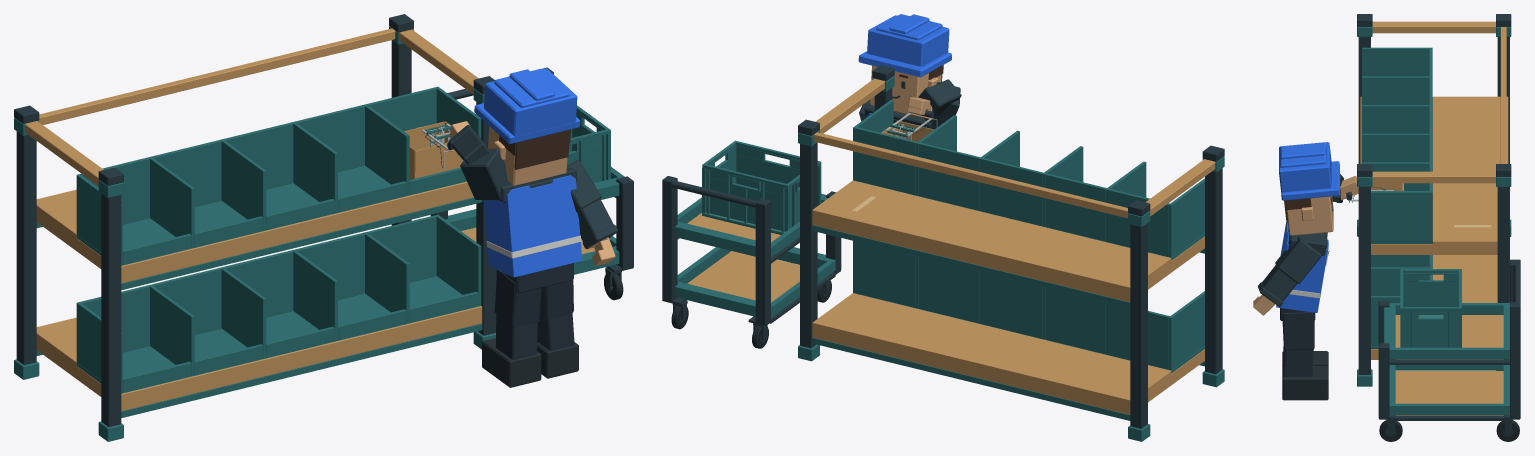
File: small-gripper-contact-fixture.glb
3 renders of one model, left to right at view 1: azimuth 30°, elevation 25°; view 2: azimuth 150°, elevation 25°; view 3: azimuth 270°, elevation 25°, orthographic. The views are drawn at different scales.
Parts seen in each view (by area): view 1: small-gripper-contact-fixture__batch_21, small-gripper-contact-fixture__batch_22, small-gripper-contact-fixture__batch_23, small-gripper-contact-fixture__batch_98, small-gripper-contact-fixture__batch_82, small-gripper-contact-fixture__batch_18, small-gripper-contact-fixture__batch_01, small-gripper-contact-fixture__batch_75, small-gripper-contact-fixture__batch_77, small-gripper-contact-fixture__batch_94, small-gripper-contact-fixture__batch_80, small-gripper-contact-fixture__batch_20 (+12 smaller); view 2: small-gripper-contact-fixture__batch_21, small-gripper-contact-fixture__batch_22, small-gripper-contact-fixture__batch_23, small-gripper-contact-fixture__batch_18, small-gripper-contact-fixture__batch_01, small-gripper-contact-fixture__batch_20, small-gripper-contact-fixture__batch_82, small-gripper-contact-fixture__batch_00, small-gripper-contact-fixture__batch_79, small-gripper-contact-fixture__batch_89; view 3: small-gripper-contact-fixture__batch_22, small-gripper-contact-fixture__batch_21, small-gripper-contact-fixture__batch_23, small-gripper-contact-fixture__batch_20, small-gripper-contact-fixture__batch_00, small-gripper-contact-fixture__batch_18, small-gripper-contact-fixture__batch_01, small-gripper-contact-fixture__batch_82, small-gripper-contact-fixture__batch_79, small-gripper-contact-fixture__batch_98, small-gripper-contact-fixture__batch_72, small-gripper-contact-fixture__batch_88 (+9 smaller).
Boxes of the visible parts, bbox=[...] form: small-gripper-contact-fixture__batch_21: bbox=[14, 26, 495, 441]; small-gripper-contact-fixture__batch_22: bbox=[25, 28, 482, 411]; small-gripper-contact-fixture__batch_23: bbox=[14, 14, 496, 426]; small-gripper-contact-fixture__batch_98: bbox=[484, 175, 582, 277]; small-gripper-contact-fixture__batch_82: bbox=[474, 68, 580, 144]; small-gripper-contact-fixture__batch_18: bbox=[567, 105, 610, 182]; small-gripper-contact-fixture__batch_01: bbox=[430, 67, 633, 283]; small-gripper-contact-fixture__batch_75: bbox=[482, 338, 541, 387]; small-gripper-contact-fixture__batch_77: bbox=[494, 270, 541, 326]; small-gripper-contact-fixture__batch_94: bbox=[460, 149, 508, 200]; small-gripper-contact-fixture__batch_80: bbox=[499, 129, 570, 169]; small-gripper-contact-fixture__batch_20: bbox=[445, 167, 624, 276]; small-gripper-contact-fixture__batch_21: bbox=[798, 76, 1224, 441]; small-gripper-contact-fixture__batch_22: bbox=[812, 78, 1215, 414]; small-gripper-contact-fixture__batch_23: bbox=[798, 65, 1224, 428]; small-gripper-contact-fixture__batch_18: bbox=[702, 140, 821, 234]; small-gripper-contact-fixture__batch_01: bbox=[662, 176, 841, 325]; small-gripper-contact-fixture__batch_20: bbox=[675, 193, 835, 317]; small-gripper-contact-fixture__batch_82: bbox=[858, 14, 951, 77]; small-gripper-contact-fixture__batch_00: bbox=[687, 213, 799, 302]; small-gripper-contact-fixture__batch_79: bbox=[870, 65, 941, 114]; small-gripper-contact-fixture__batch_89: bbox=[918, 79, 961, 120]; small-gripper-contact-fixture__batch_22: bbox=[1360, 21, 1508, 359]; small-gripper-contact-fixture__batch_21: bbox=[1357, 27, 1511, 386]; small-gripper-contact-fixture__batch_23: bbox=[1357, 14, 1511, 374]; small-gripper-contact-fixture__batch_20: bbox=[1384, 303, 1509, 415]; small-gripper-contact-fixture__batch_00: bbox=[1395, 315, 1503, 415]; small-gripper-contact-fixture__batch_18: bbox=[1400, 269, 1461, 347]; small-gripper-contact-fixture__batch_01: bbox=[1378, 259, 1520, 420]; small-gripper-contact-fixture__batch_82: bbox=[1279, 142, 1339, 200]; small-gripper-contact-fixture__batch_79: bbox=[1287, 196, 1333, 235]; small-gripper-contact-fixture__batch_98: bbox=[1276, 221, 1328, 312]; small-gripper-contact-fixture__batch_72: bbox=[1282, 366, 1328, 400]; small-gripper-contact-fixture__batch_88: bbox=[1275, 235, 1321, 283].
Size of the model in its own units: 3.31 by 1.7 by 1.73.
